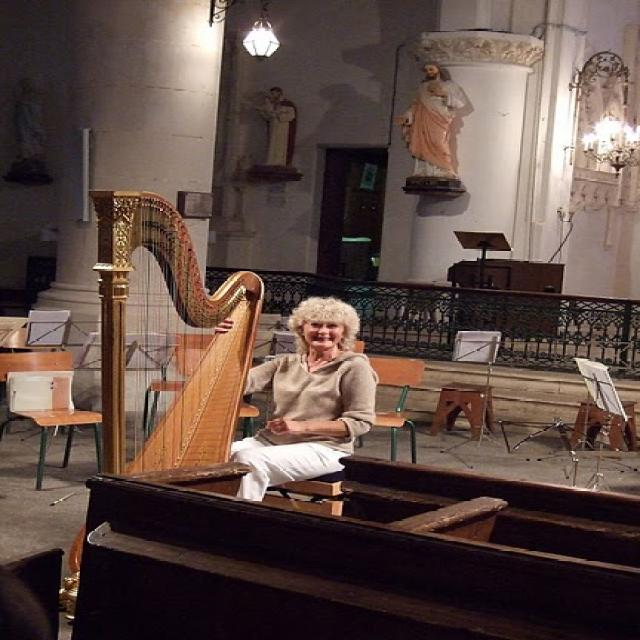harp: (56, 179, 273, 618)
